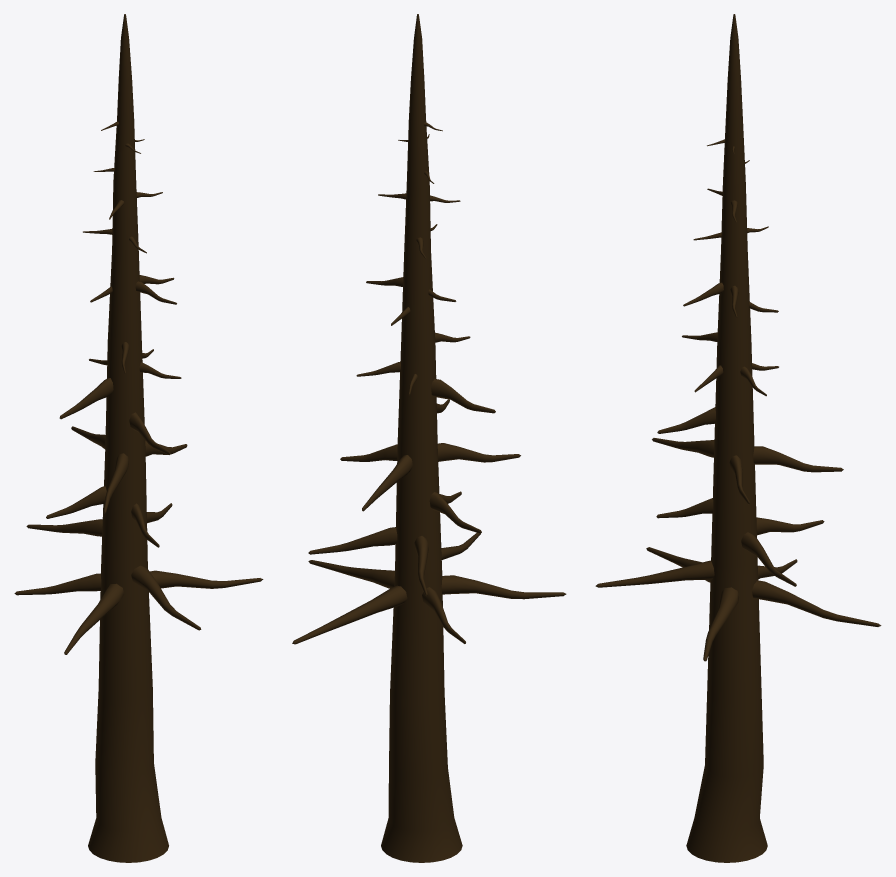
Rendered from Tree_Bare.fbx.
3 renders of one model, left to right at view 1: azimuth 30°, elevation 25°; view 2: azimuth 150°, elevation 25°; view 3: azimuth 270°, elevation 25°, orthographic.
Parts seen in each view (by area): view 1: pCylinder33; view 2: pCylinder33; view 3: pCylinder33.
Boxes of the visible parts, box(x1,y1,x2,y2) form: pCylinder33: box(14, 14, 263, 862); pCylinder33: box(292, 14, 566, 862); pCylinder33: box(595, 14, 881, 862).
Size of the model in its own units: 132 by 458 by 143.
